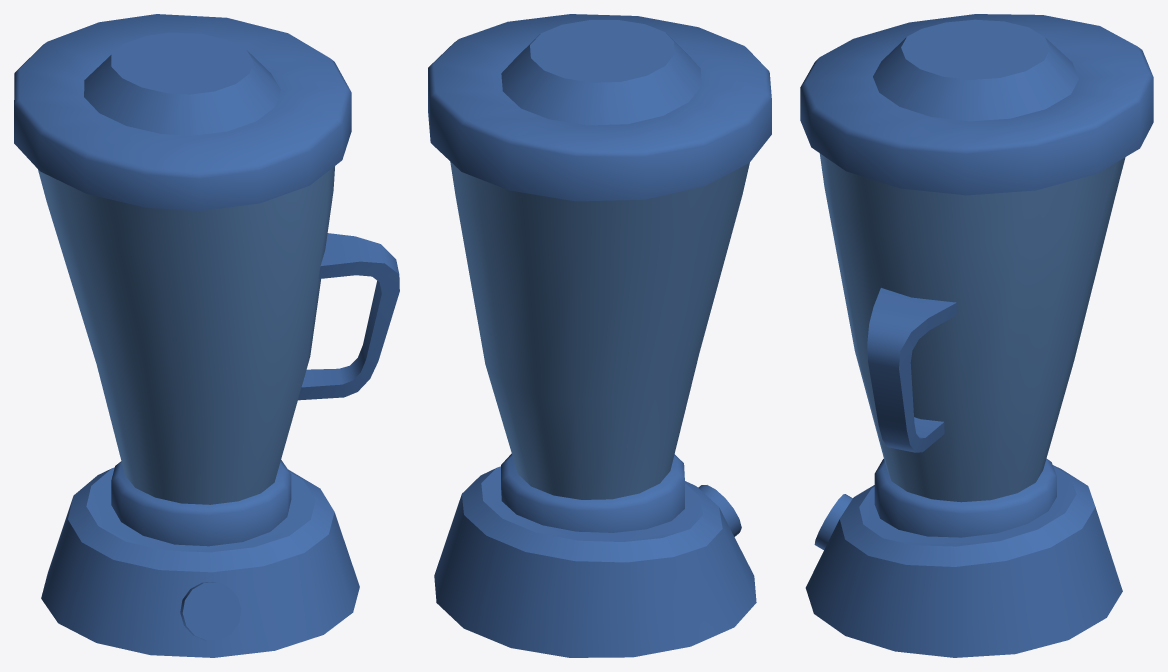
The model's file is Blender.FBX.
3 views of the same model, side by side, from view 1: azimuth 30°, elevation 25°; view 2: azimuth 150°, elevation 25°; view 3: azimuth 270°, elevation 25° (orthographic). The views are drawn at different scales.
Parts seen in each view (by area): view 1: Blender; view 2: Blender; view 3: Blender.
Part boxes in pixels (left/top/right/bottom): Blender: left=14, top=14, right=399, bottom=657; Blender: left=428, top=14, right=771, bottom=657; Blender: left=800, top=14, right=1153, bottom=657.
Size of the model in its own units: 40.74 by 64.49 by 38.65.
